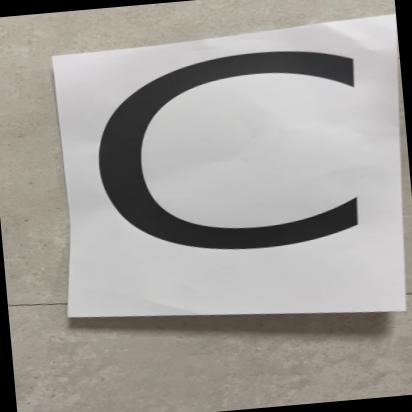seat: (56, 27, 412, 324)
